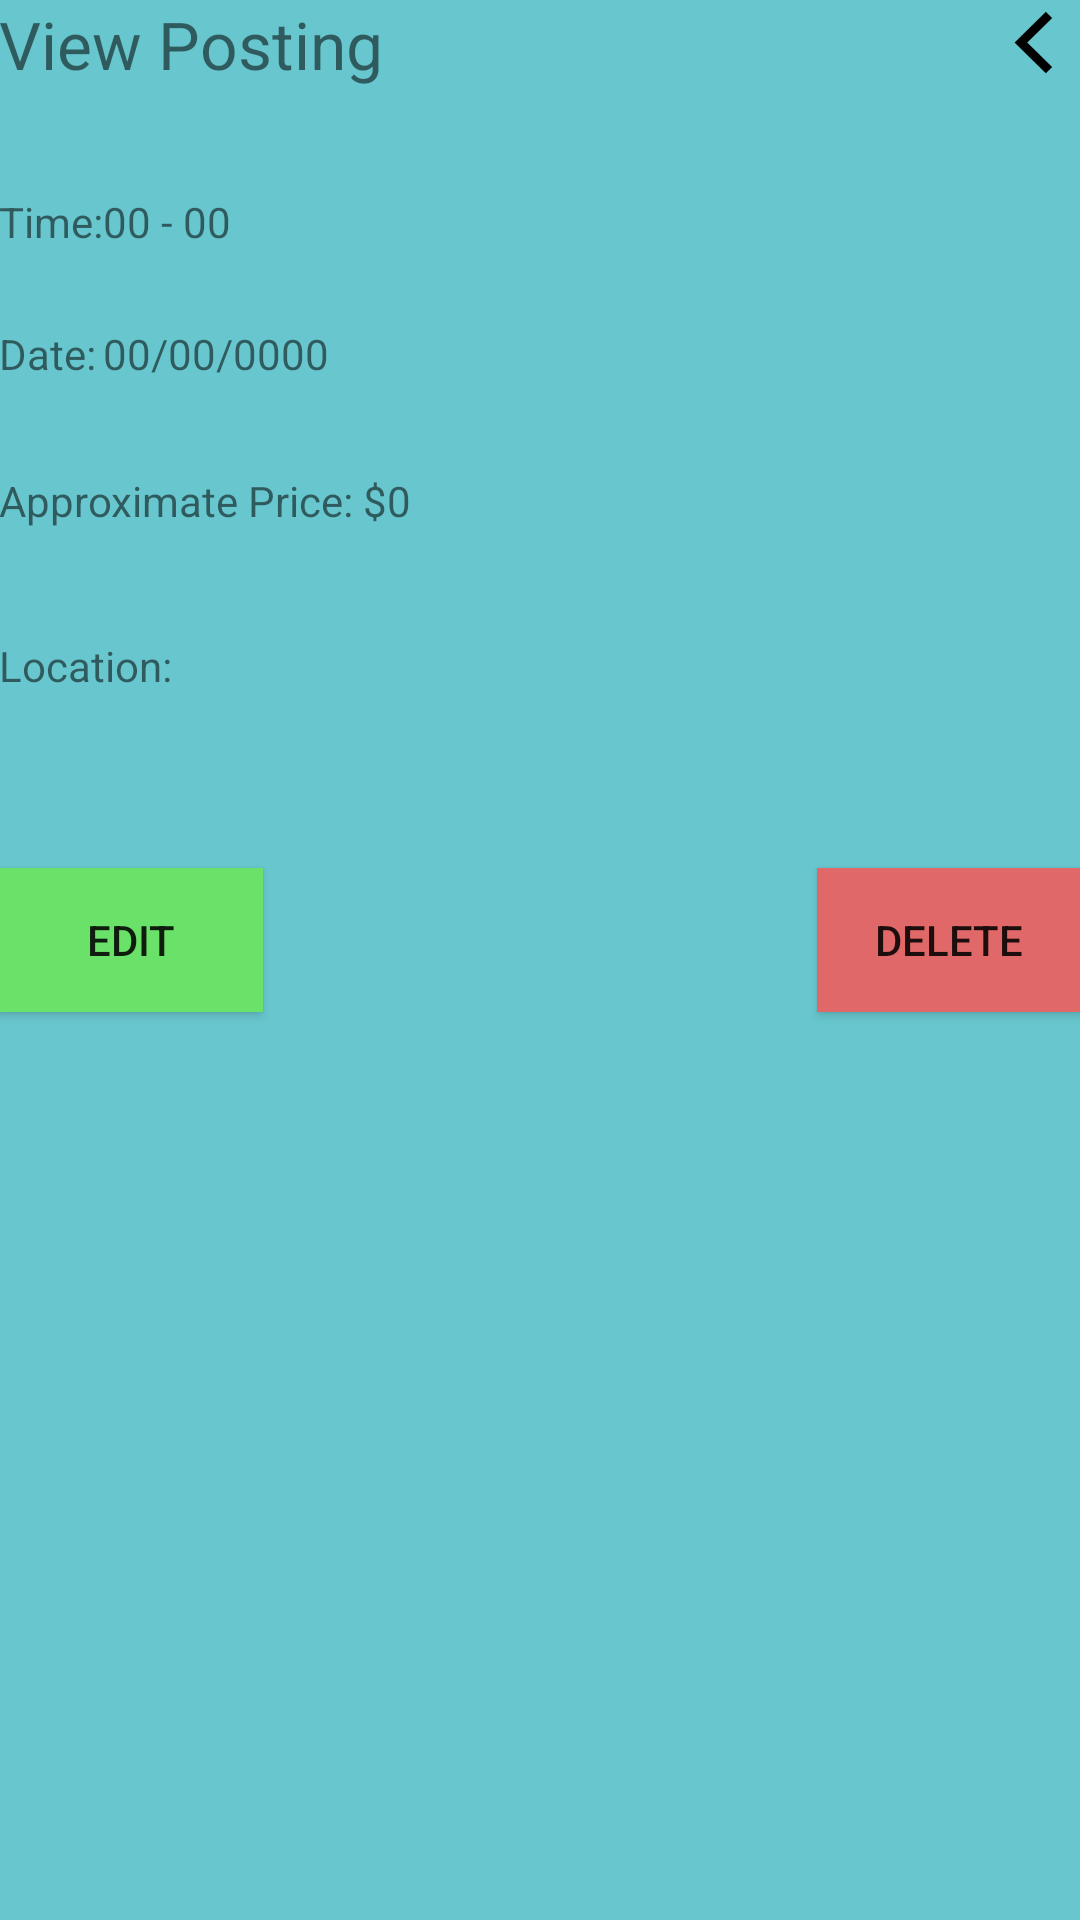

Screen size 1080x1920. Icon name, then its center in pixels as [x,y]:
back: [1033,42]
